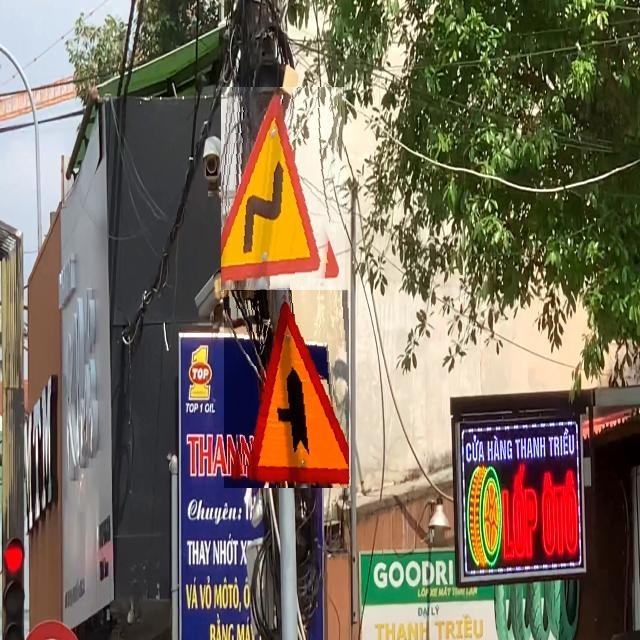bien_nguy_hiem: (222, 87, 346, 293), (224, 290, 349, 488)
